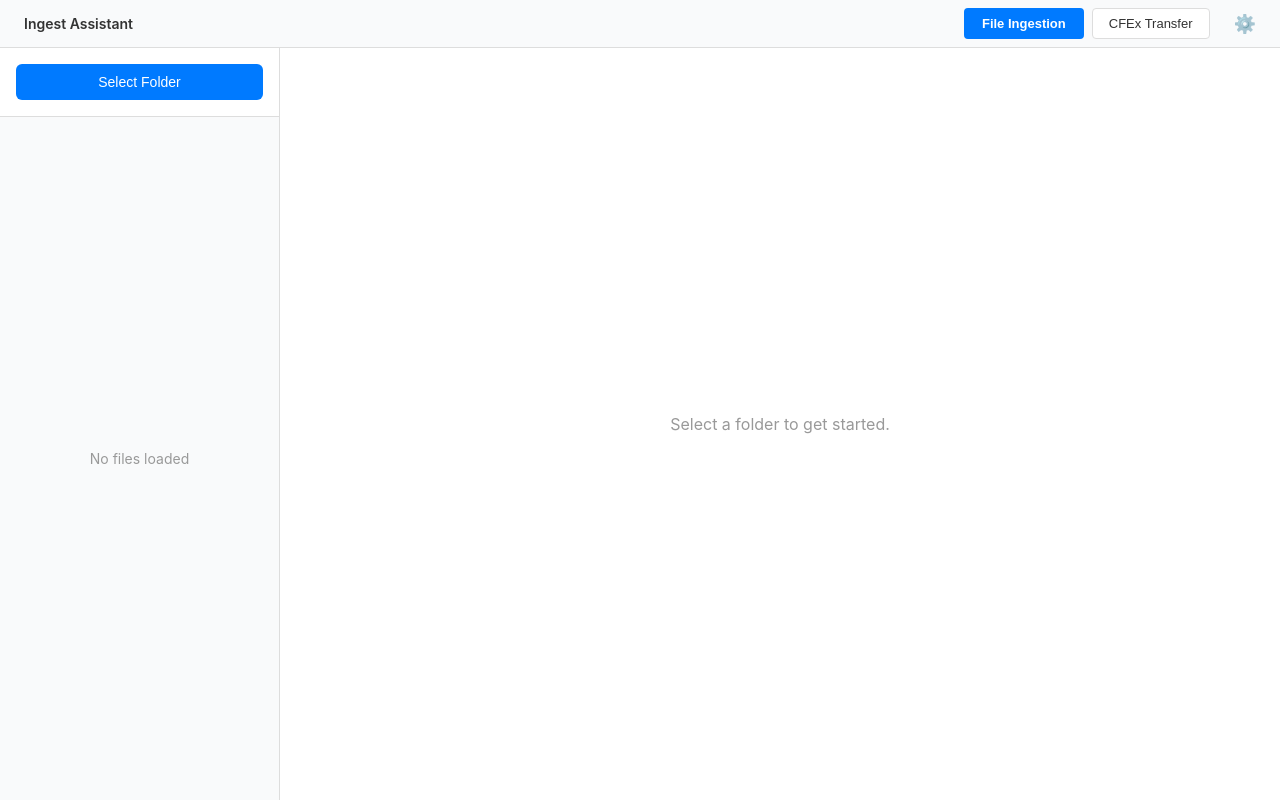
Test: Keyboard Shortcuts › Escape - Close modals › should close settings modal when Escape is pressed
Note: Open settings (button has emoji so search by title)
Click the button titled "settings".
click(1245, 24)  # box [1234, 14, 1256, 32]
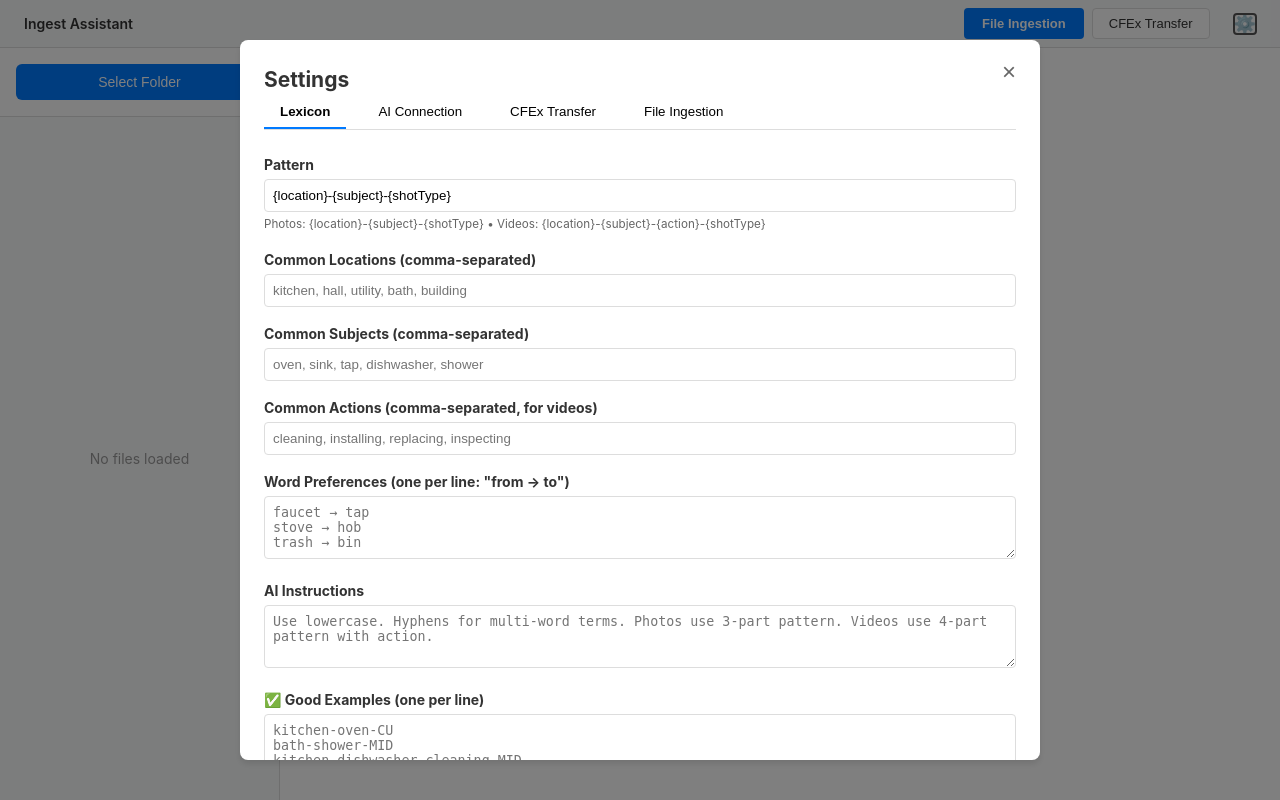
Check: the heading "Settings" is shown, box [264, 67, 349, 92]
Note: Press Escape
Press Escape
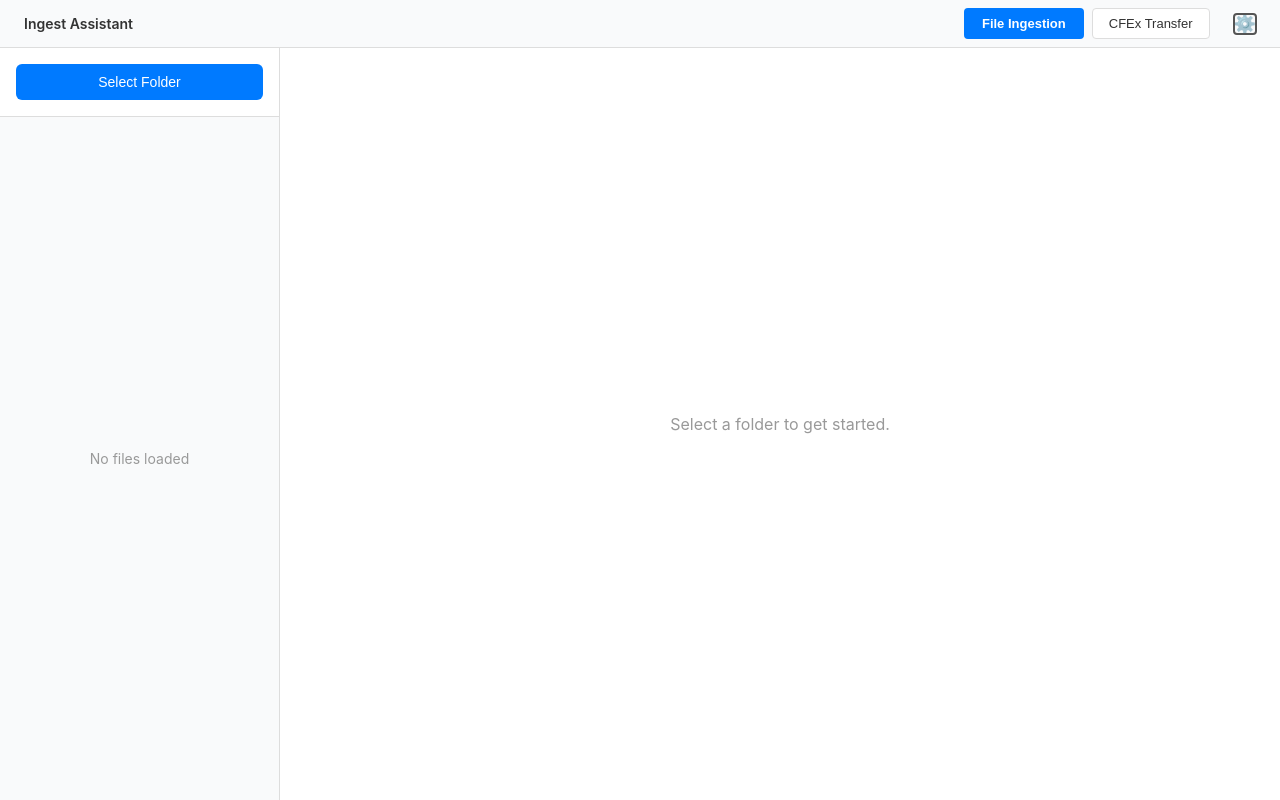
Check: the heading "Settings" is gone
